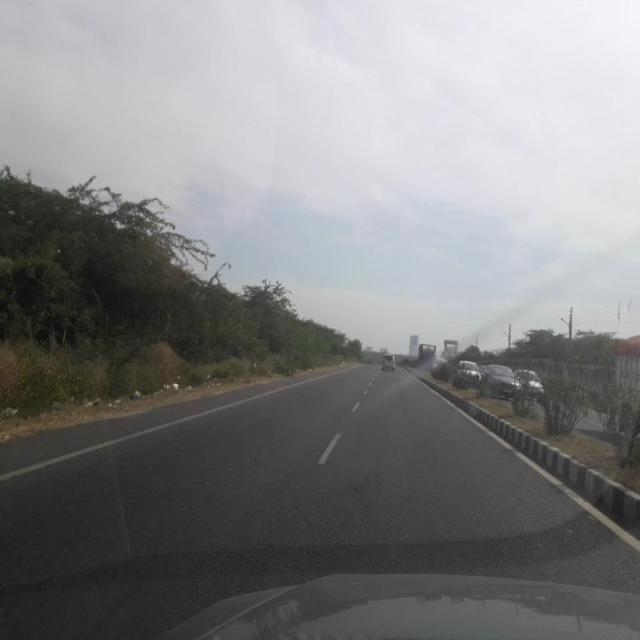D00: (350, 459, 380, 521)
